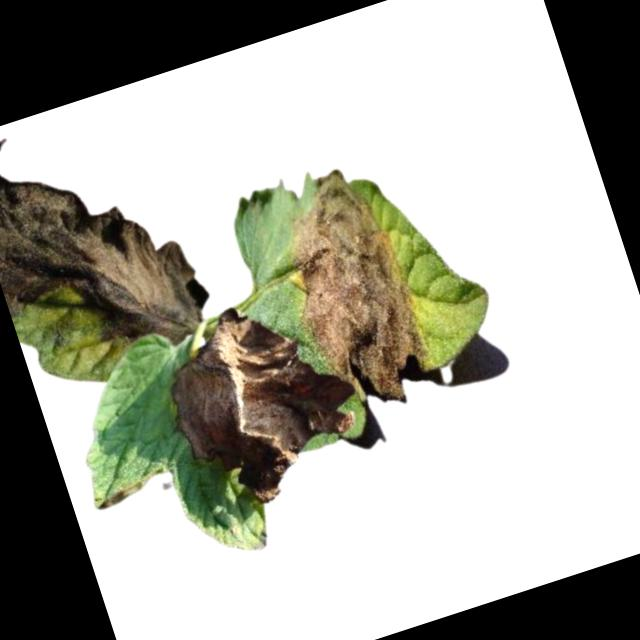Late_blight: (1, 96, 212, 387), (148, 281, 370, 517), (257, 157, 443, 425)
